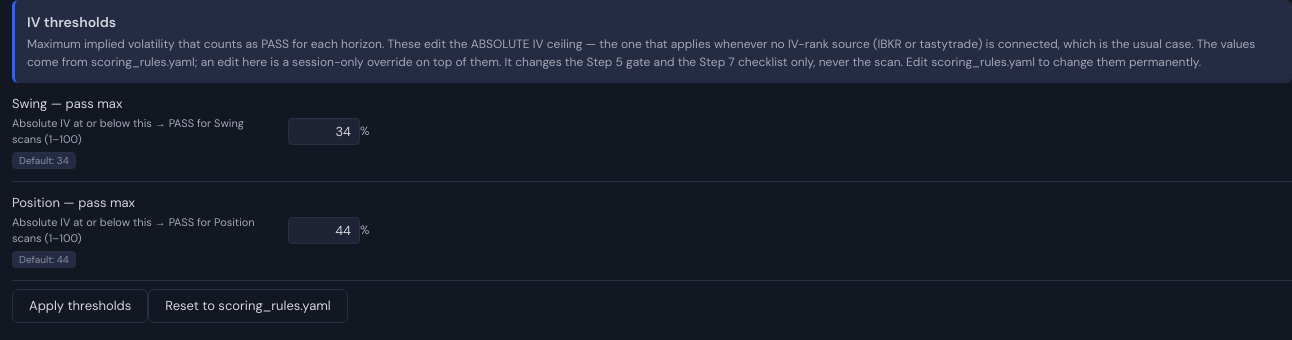
Scenario: IvThresholdsSection › G5b: refuses 0
The width and height of the screenshot is (1292, 340).
Replace the text in the field named "Swing pass max" with "0" at (324, 132), box x1=288 y1=118 x2=360 y2=145
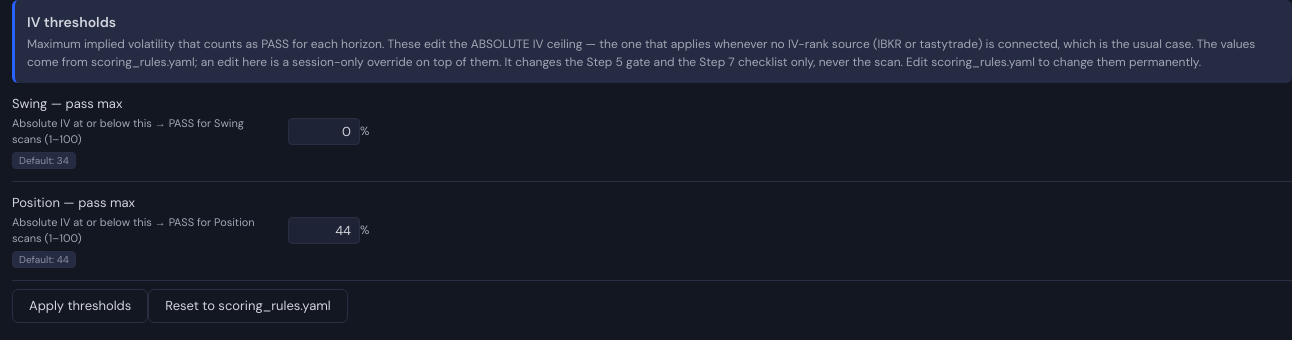
Click the button "Apply thresholds".
click(80, 306)  # box x1=12 y1=288 x2=148 y2=322
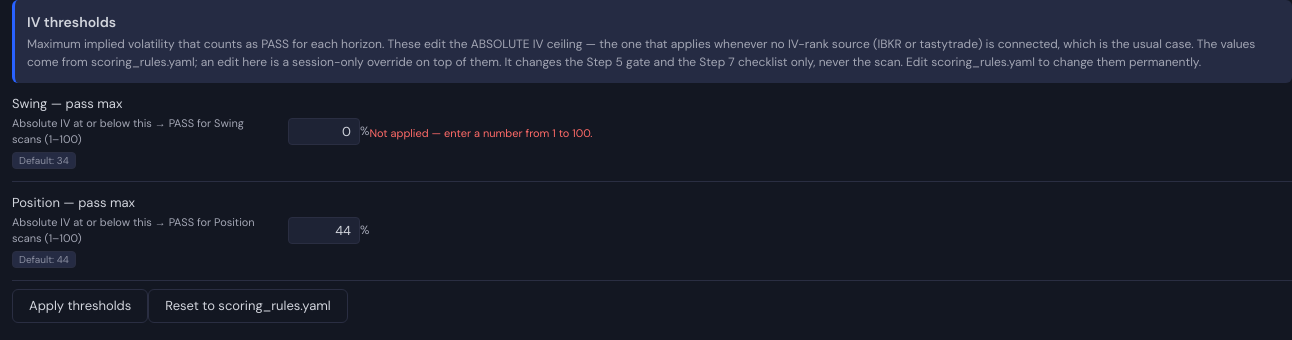
Result: the element showing "Not applied — enter a number from 1 to 100." is shown at x1=369 y1=121 x2=592 y2=142
